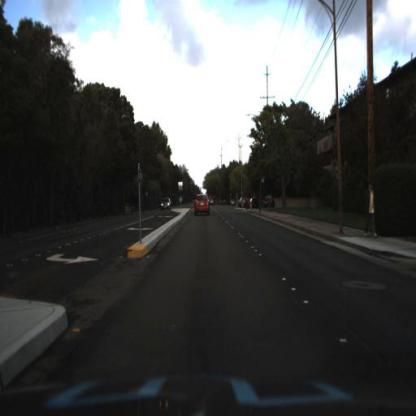car: (193, 193, 211, 219), (160, 195, 174, 218), (161, 196, 174, 211)
pedestrian: (364, 182, 380, 241)
